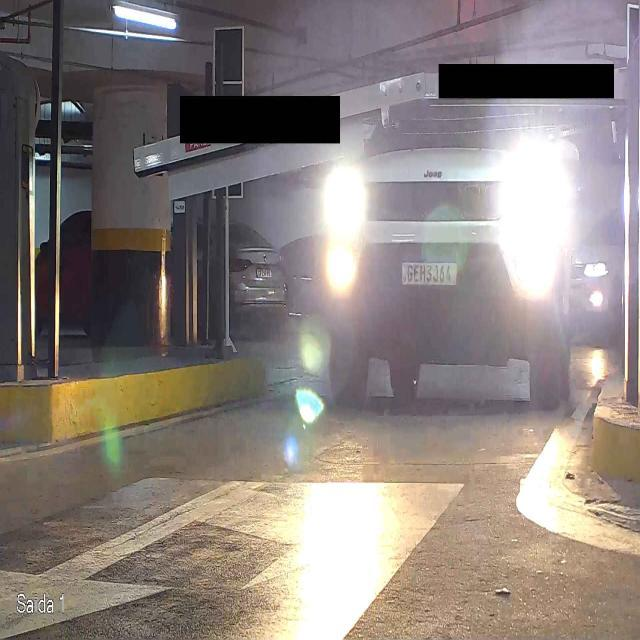mercosul_plate: (401, 256, 458, 286)
